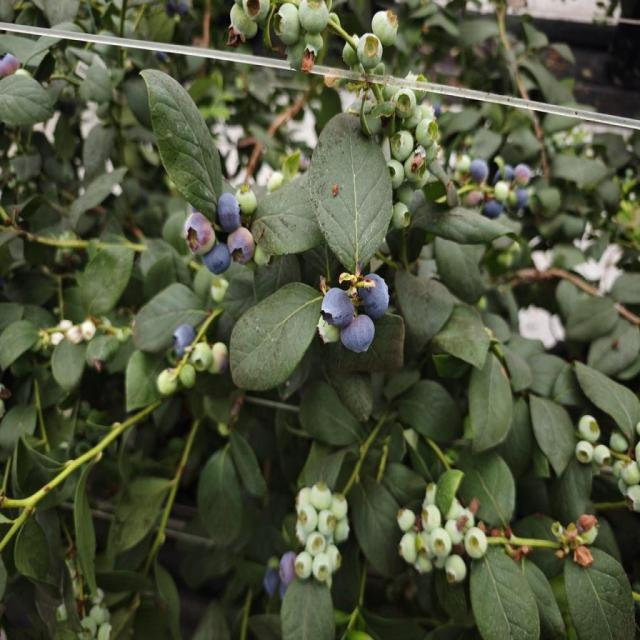RipeBlueBerry: (321, 282, 357, 337), (359, 266, 392, 310), (212, 192, 245, 230)
Semi-RipeBlueBerry: (334, 313, 385, 377), (174, 211, 213, 257)
UnripeBlueBerry: (353, 31, 388, 68)
